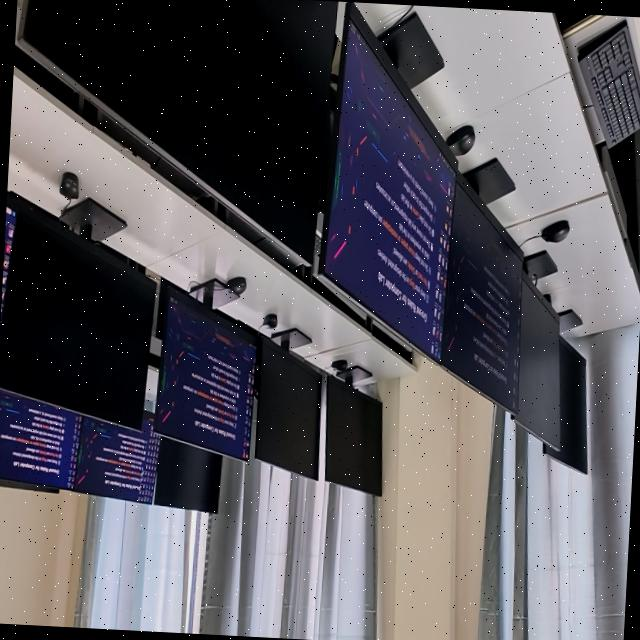Keyboard: (576, 19, 640, 148)
Monitor: (18, 0, 338, 262), (318, 3, 455, 360), (0, 191, 156, 430), (441, 175, 521, 411), (155, 286, 256, 460), (254, 335, 321, 479), (515, 270, 560, 449), (0, 390, 81, 487), (74, 411, 159, 503), (324, 371, 381, 495), (542, 336, 587, 473), (154, 436, 221, 512)
Mouse: (446, 125, 474, 155), (540, 220, 569, 242), (59, 172, 78, 199), (226, 276, 246, 296), (330, 359, 346, 373), (261, 314, 276, 328)
